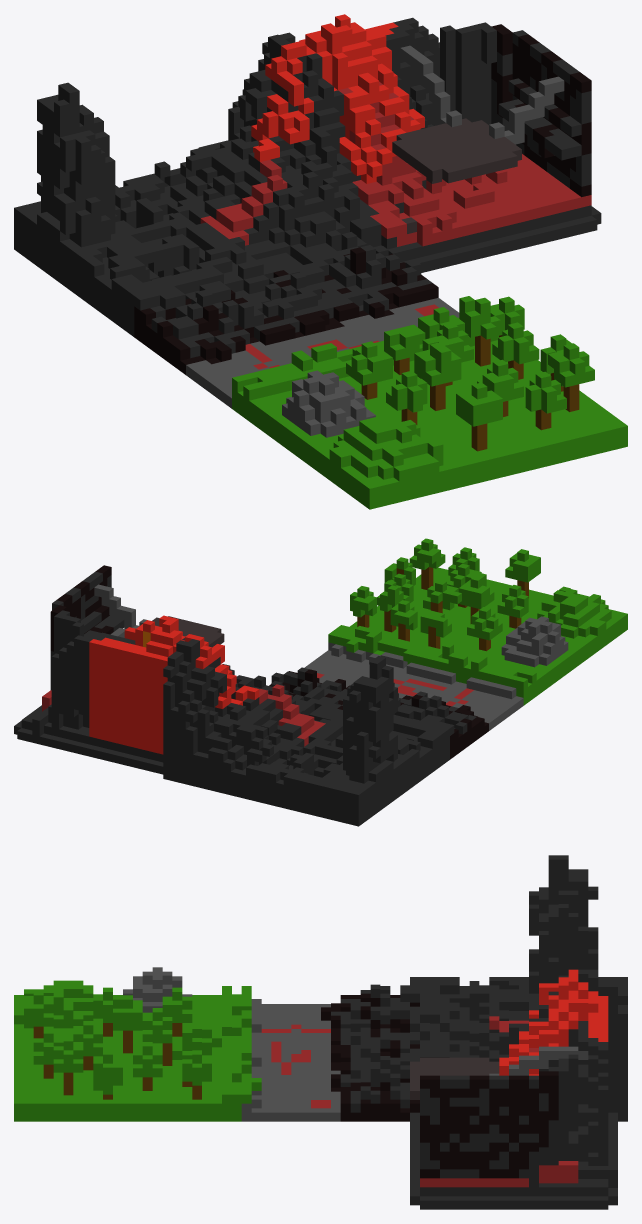
The model's file is World fire part 6.gltf.
3 views of the same model, one above another, from view 1: azimuth 30°, elevation 25°; view 2: azimuth 150°, elevation 25°; view 3: azimuth 270°, elevation 25° (orthographic). The views are drawn at different scales.
Visible parts, largest first — view 1: Layer.1, Layer.2, Layer.4, Layer.3; view 2: Layer.2, Layer.4, Layer.1, Layer.3; view 3: Layer.1, Layer.4, Layer.3, Layer.2.
Part boxes in pixels (x1,y1,x2,y2): Layer.1: (299, 14, 601, 272); Layer.2: (14, 32, 381, 336); Layer.4: (249, 296, 627, 509); Layer.3: (134, 245, 498, 421); Layer.2: (163, 634, 449, 826); Layer.4: (349, 538, 627, 695); Layer.1: (14, 565, 224, 774); Layer.3: (269, 625, 536, 759); Layer.1: (410, 977, 617, 1209); Layer.4: (14, 967, 221, 1121); Layer.3: (222, 977, 419, 1121); Layer.2: (420, 855, 627, 1121).
Bounding box in the file's own units: 47 × 18 × 62.
1 material, 1 textured.
